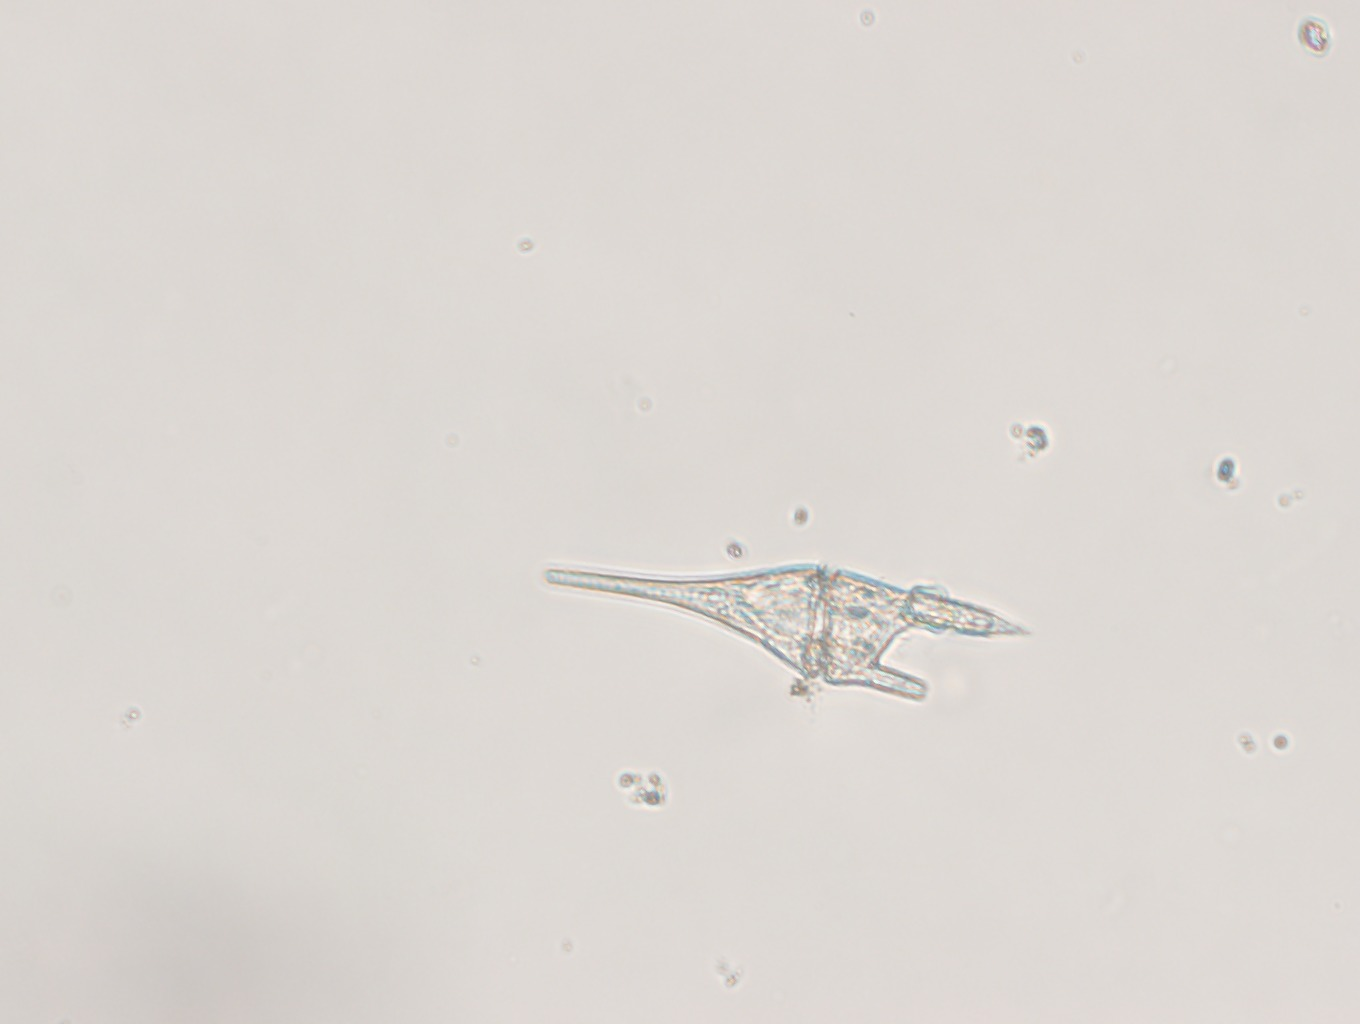ceratium fusus: (542, 563, 1031, 705)
